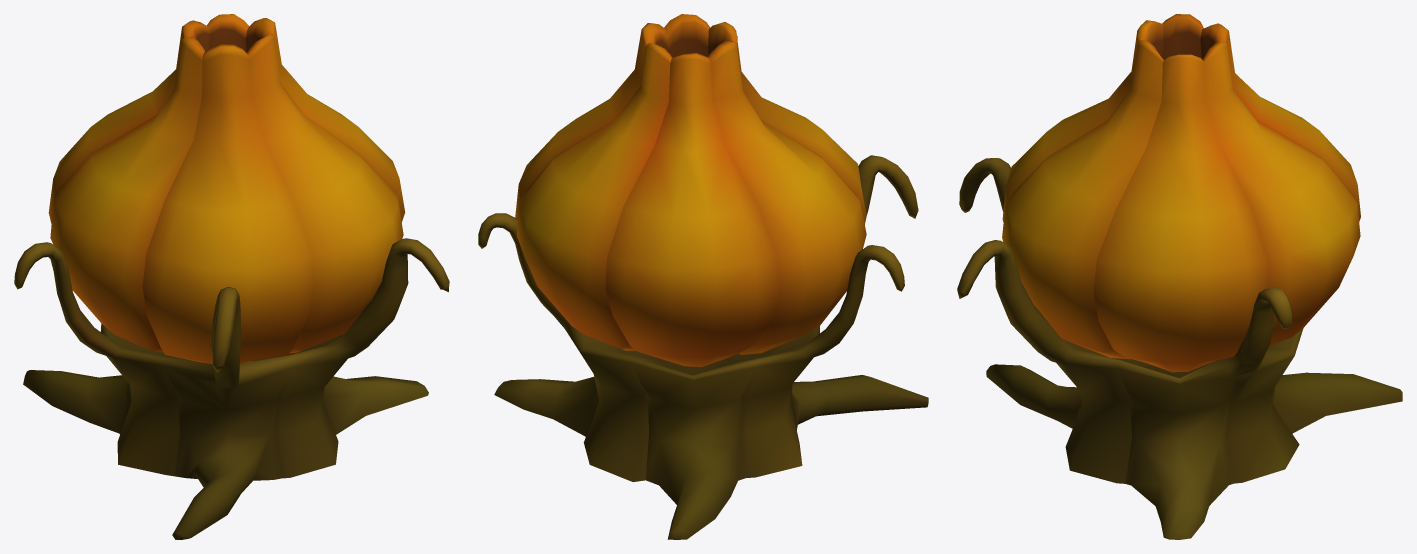
The model's file is Plant_6.fbx.
The picture shows the model from 3 angles, left to right: view 1: azimuth 30°, elevation 25°; view 2: azimuth 150°, elevation 25°; view 3: azimuth 270°, elevation 25°; orthographic projection.
Visible parts, largest first — view 1: Plant_6; view 2: Plant_6; view 3: Plant_6.
Part boxes in pixels (x1,y1,x2,y2): Plant_6: (14,14,449,539); Plant_6: (478,14,928,539); Plant_6: (957,14,1402,539).
Size of the model in its own units: 4.21 by 4.03 by 3.94.
